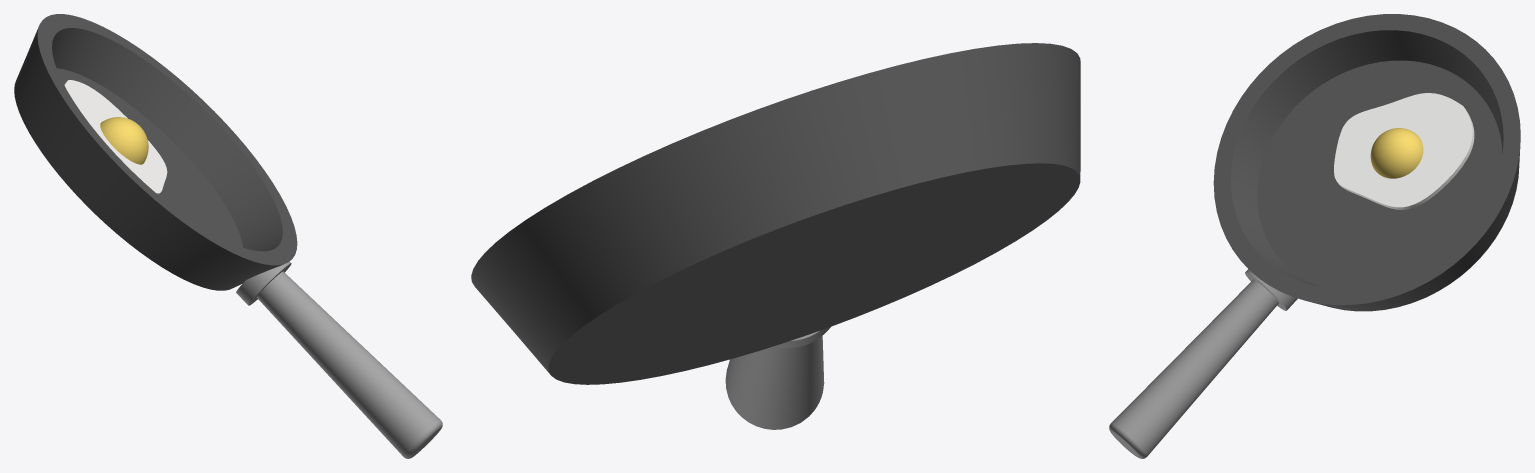
File: about-cooking.glb
The picture shows the model from 3 angles, left to right: view 1: azimuth 30°, elevation 25°; view 2: azimuth 150°, elevation 25°; view 3: azimuth 270°, elevation 25°; orthographic projection. The views are drawn at different scales.
Parts seen in each view (by area): view 1: Body1, Body3, Body6, Body5, Body2; view 2: Body1, Body3; view 3: Body1, Body6, Body3, Body5, Body2.
Boxes of the visible parts, <box> form: Body1: <box>14,14,297,290</box>; Body3: <box>257,271,442,458</box>; Body6: <box>64,80,167,194</box>; Body5: <box>100,117,148,164</box>; Body2: <box>236,261,291,305</box>; Body1: <box>471,43,1080,384</box>; Body3: <box>725,336,824,429</box>; Body1: <box>1213,14,1520,311</box>; Body6: <box>1334,93,1474,209</box>; Body3: <box>1109,279,1278,458</box>; Body5: <box>1370,128,1423,178</box>; Body2: <box>1245,269,1297,310</box>.
Bounding box in the file's own units: 6.41 × 7.72 × 8.53.
